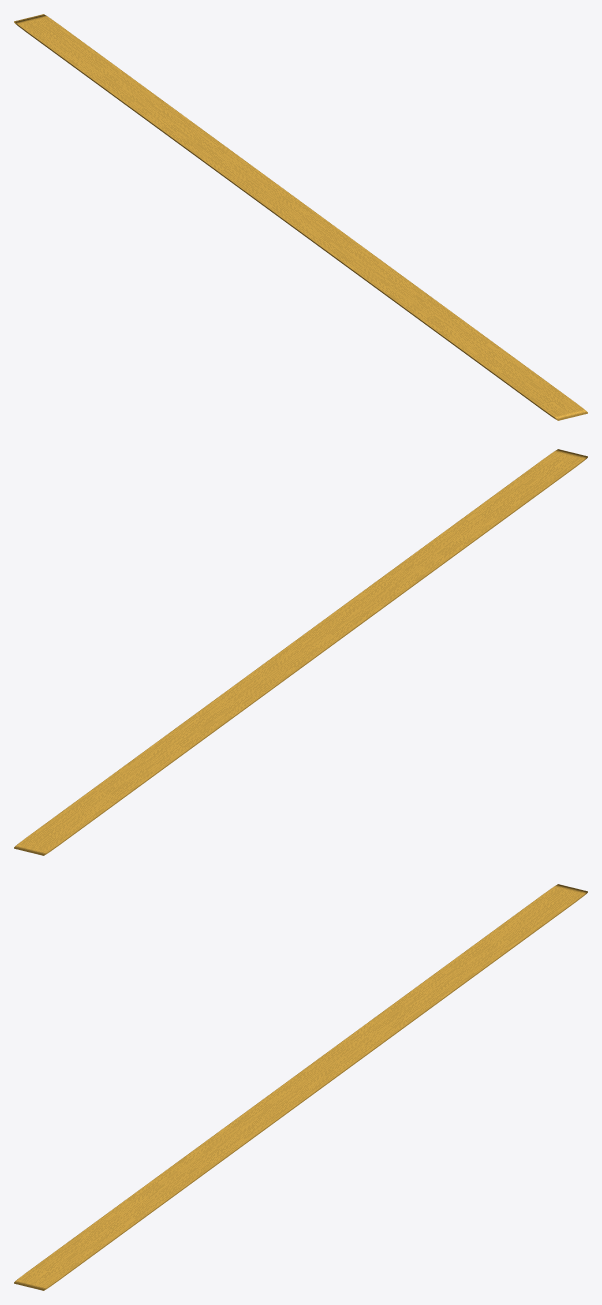
The model's file is parking-line.glb.
3 views of the same model, one above another, from view 1: azimuth 30°, elevation 25°; view 2: azimuth 150°, elevation 25°; view 3: azimuth 330°, elevation 25° (orthographic).
Parts seen in each view (by area): view 1: panel; view 2: panel; view 3: panel.
Boxes of the visible parts, x1,y1,x2,y2 form: panel: (14,14,587,420); panel: (14,449,587,855); panel: (14,884,587,1290).
Size of the model in its own units: 0.1 by 0.004 by 3.
1 material, 1 textured.
